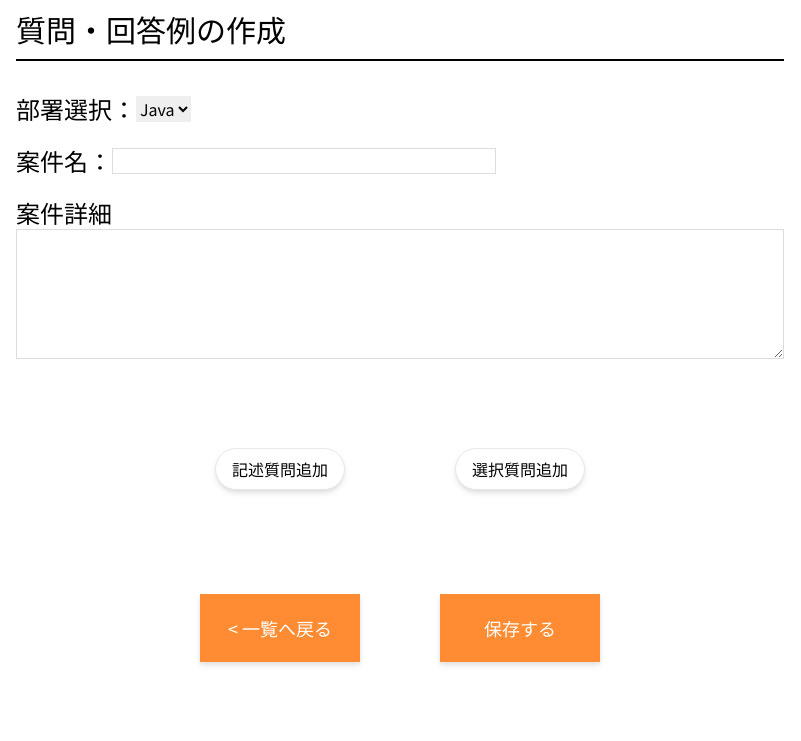
Test: 質問・回答例作成画面テスト › 選択式質問追加ボタンクリック
What coordinates should you click on to do the following:
click the button with test id "addSelectButton"
I would click on:
 (520, 469)
Its box is [455,448,585,490].
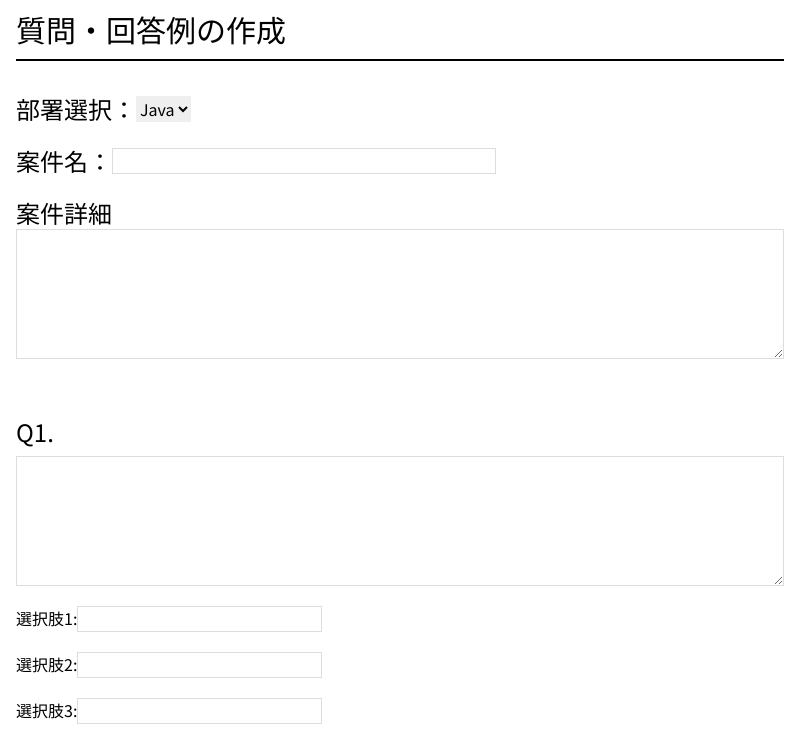
Expected: the heading with test id "select_1" shows "Q1", [16,414,54,449]
